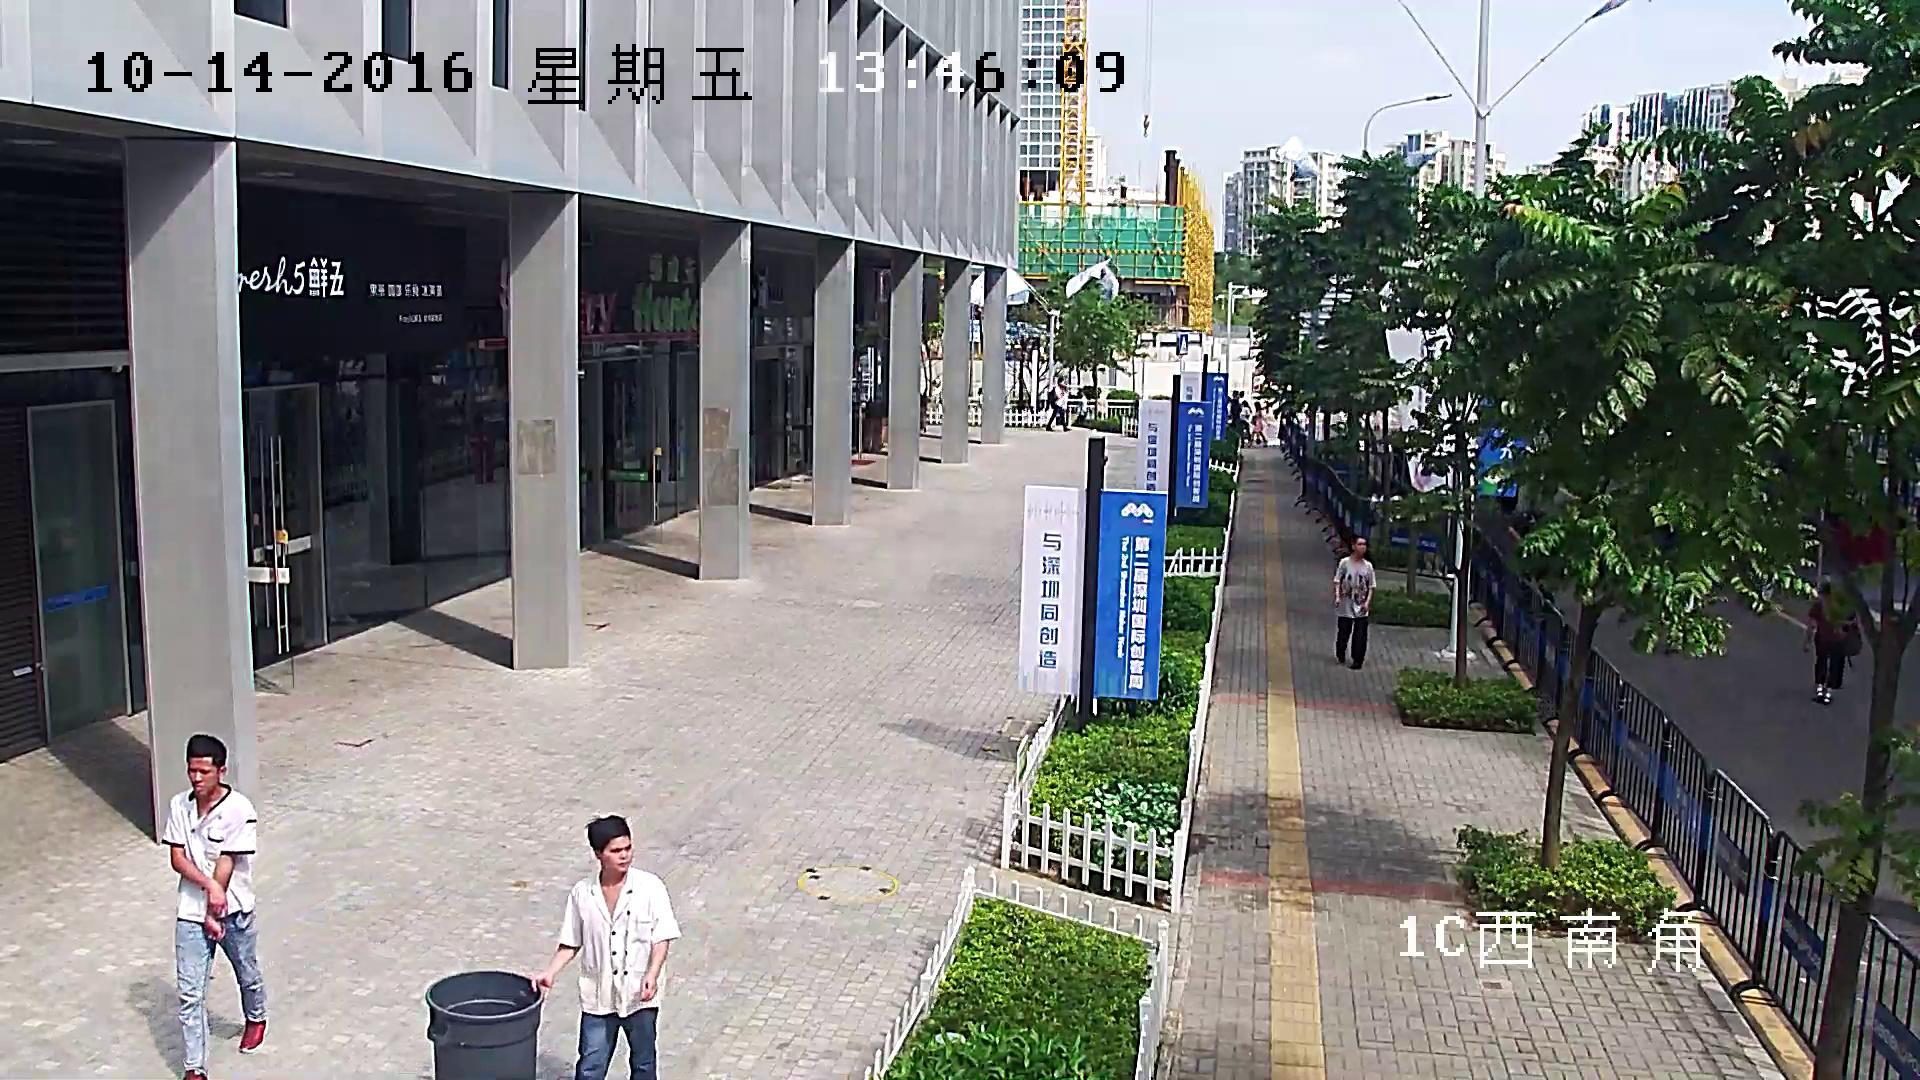person: (424, 814, 685, 1080), (530, 814, 685, 1080), (161, 733, 268, 1080), (1800, 577, 1864, 707), (1330, 533, 1378, 670), (464, 410, 497, 486), (1046, 375, 1071, 434), (1248, 402, 1268, 448), (1071, 391, 1088, 427), (1225, 390, 1241, 429), (1239, 400, 1251, 449)
